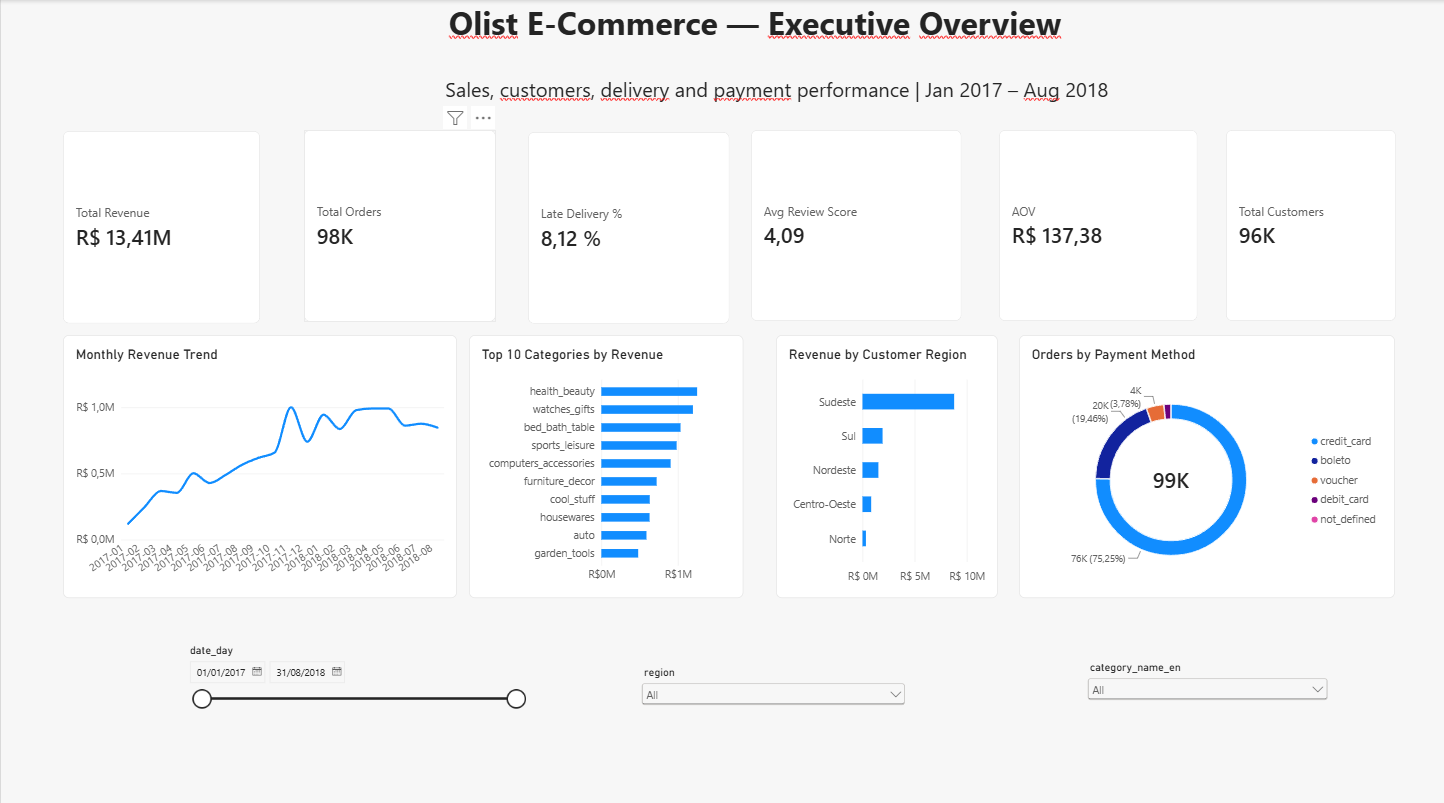

What the dashboard file says about the page in this screenshot:
{"tool":"powerbi","page":{"name":"Executive Overview","canvas":[1920,1080],"ordinal":0},"visuals":[{"type":"lineChart","title":"Monthly Revenue Trend","fields":{"Category":["analytics dim_date.year_month"],"Y":["_Measures.Total Revenue"]},"box":[82.2,445.1,523.8,350.2],"z":0},{"type":"clusteredBarChart","title":"Top 10 Categories by Revenue","fields":{"Category":["analytics dim_product.category_name_en"],"Y":["_Measures.Item Revenue"]},"box":[622,445.1,364.7,350.2],"z":1000},{"type":"clusteredBarChart","title":"Revenue by Customer Region","fields":{"Category":["analytics dim_geography.region"],"Y":["_Measures.Total Revenue"]},"box":[1030.5,445.1,294.7,350.2],"z":2000},{"type":"donutChart","title":"Orders by Payment Method","fields":{"Category":["analytics fact_payments.payment_type"],"Y":["_Measures.Payment Orders"]},"box":[1354.4,445.1,500.4,350.2],"z":3000},{"type":"slicer","fields":{"Values":["analytics dim_date.date_day"]},"box":[243.4,856.6,457.5,223.4],"z":4000},{"type":"slicer","fields":{"Values":["analytics dim_geography.region"]},"box":[847.2,885.8,360.4,194.2],"z":5000},{"type":"slicer","fields":{"Values":["analytics dim_product.category_name_en"]},"box":[1440.4,879.2,328.5,119.7],"z":6000},{"type":"cardVisual","fields":{"Data":["_Measures.Total Revenue"]},"box":[82.5,174.2,262,256.7],"z":7000},{"type":"cardVisual","fields":{"Data":["_Measures.Total Orders"]},"box":[403,172.9,255.4,255.4],"z":8000},{"type":"cardVisual","fields":{"Data":["_Measures.Late Delivery %"]},"box":[700.9,175.6,268.7,255.4],"z":9000},{"type":"cardVisual","fields":{"Data":["_Measures.Avg Review Score"]},"box":[997.5,172.3,280.6,254],"z":10000},{"type":"cardVisual","fields":{"Data":["_Measures.AOV"]},"box":[1327.4,172.9,264.7,254],"z":11000},{"type":"cardVisual","fields":{"Data":["_Measures.Total Customers"]},"box":[1629.3,172.3,226.1,254],"z":12000},{"type":"textbox","box":[82.5,0,1546.8,149],"z":13000},{"type":"textbox","box":[82.5,99.8,1773,50.5],"z":14000}]}

Visuals, with their boxes in screenshot pixels (x1, y1, x2, y2), scaled from the page's 1920x1080 canvas onto the 1444x803 screenshot:
"Monthly Revenue Trend" lineChart: select_region(62, 331, 456, 591)
"Top 10 Categories by Revenue" clusteredBarChart: select_region(468, 331, 742, 591)
"Revenue by Customer Region" clusteredBarChart: select_region(775, 331, 997, 591)
"Orders by Payment Method" donutChart: select_region(1019, 331, 1395, 591)
slicer - analytics dim_date.date_day: select_region(183, 637, 527, 802)
slicer - analytics dim_geography.region: select_region(637, 659, 908, 802)
slicer - analytics dim_product.category_name_en: select_region(1083, 654, 1330, 743)
cardVisual - _Measures.Total Revenue: select_region(62, 130, 259, 320)
cardVisual - _Measures.Total Orders: select_region(303, 129, 495, 318)
cardVisual - _Measures.Late Delivery %: select_region(527, 131, 729, 320)
cardVisual - _Measures.Avg Review Score: select_region(750, 128, 961, 317)
cardVisual - _Measures.AOV: select_region(998, 129, 1197, 317)
cardVisual - _Measures.Total Customers: select_region(1225, 128, 1395, 317)
textbox: select_region(62, 0, 1225, 111)
textbox: select_region(62, 74, 1395, 112)
